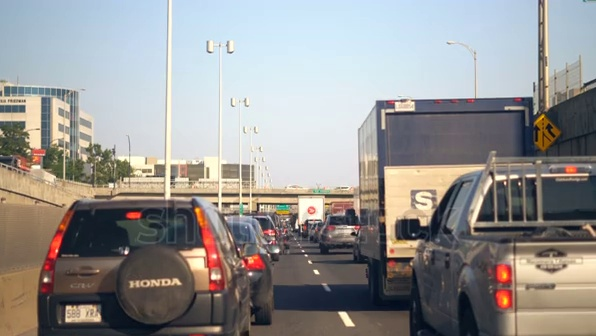licenseplate: (60, 307, 104, 322)
